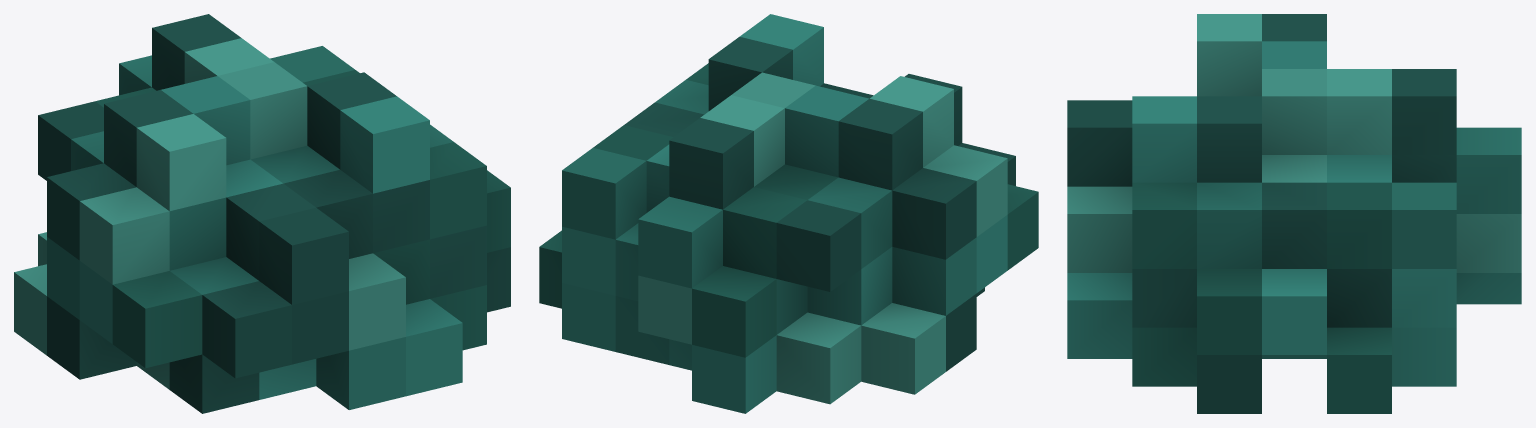
File: bush_teal_1.glb
The picture shows the model from 3 angles, left to right: view 1: azimuth 30°, elevation 25°; view 2: azimuth 150°, elevation 25°; view 3: azimuth 270°, elevation 25°; orthographic projection. The views are drawn at different scales.
Visible parts, largest first — view 1: bush_teal_1; view 2: bush_teal_1; view 3: bush_teal_1.
Part boxes in pixels (x1,y1,x2,y2): bush_teal_1: (14, 14, 510, 413); bush_teal_1: (539, 14, 1038, 413); bush_teal_1: (1067, 14, 1521, 413).
Bounding box in the file's own units: 0.5833 × 0.3333 × 0.5833.
